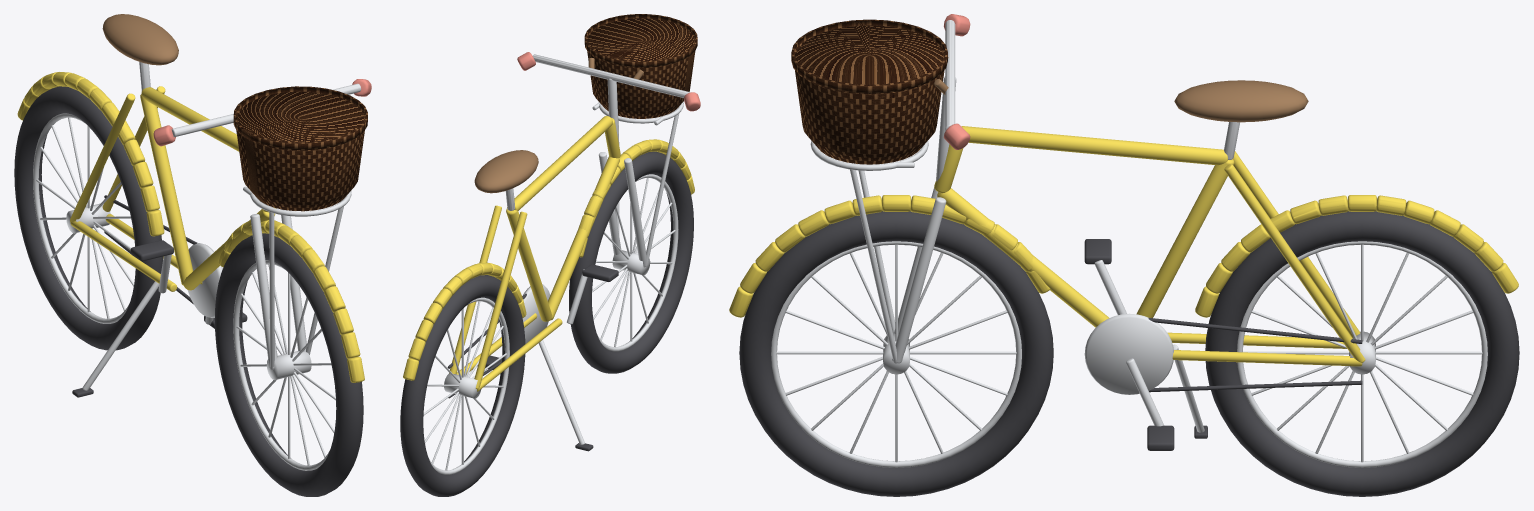
The model's file is bike_yellow.glb.
The picture shows the model from 3 angles, left to right: view 1: azimuth 30°, elevation 25°; view 2: azimuth 150°, elevation 25°; view 3: azimuth 270°, elevation 25°; orthographic projection. The views are drawn at different scales.
Visible parts, largest first — view 1: bike_yellow; view 2: bike_yellow; view 3: bike_yellow.
Boxes of the visible parts, bbox=[...] form: bike_yellow: bbox=[14, 14, 371, 496]; bike_yellow: bbox=[400, 14, 700, 496]; bike_yellow: bbox=[729, 14, 1519, 496].
Size of the model in its own units: 0.6495 by 1.09 by 1.76.
6 materials, 1 textured.
